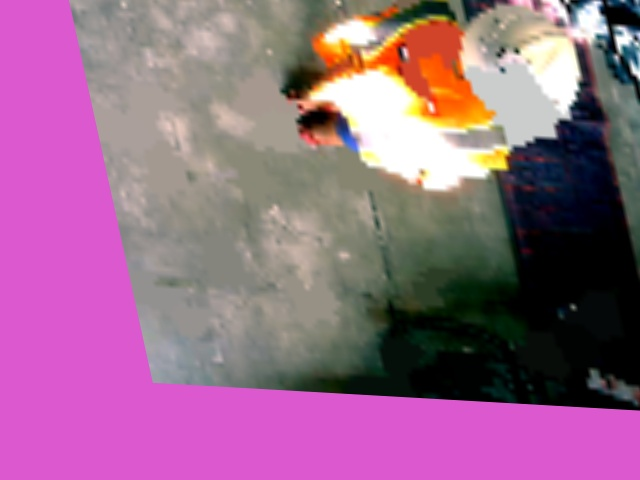two: (491, 47, 540, 94)
